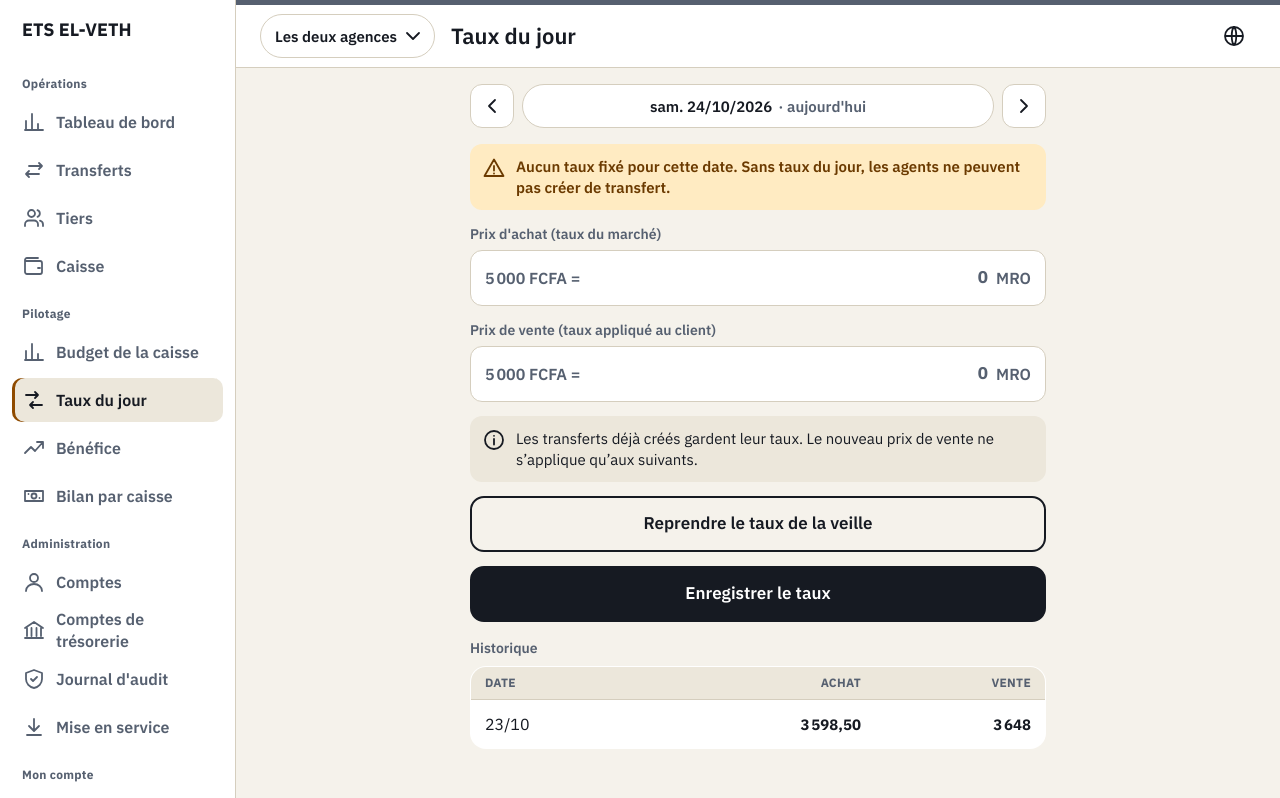
Test: Taux du jour — Superviseur › sans taux pour la date : prévient, et reprend le taux de la veille sans l’enregistrer
Expected: the text "Aucun taux fixé pour cette date. Sans taux du jour" is shown, top-left (516, 157), bottom-right (1020, 197)
Click the button "Reprendre le taux de la veille".
click(758, 524)  # box top-left (470, 496), bottom-right (1046, 552)
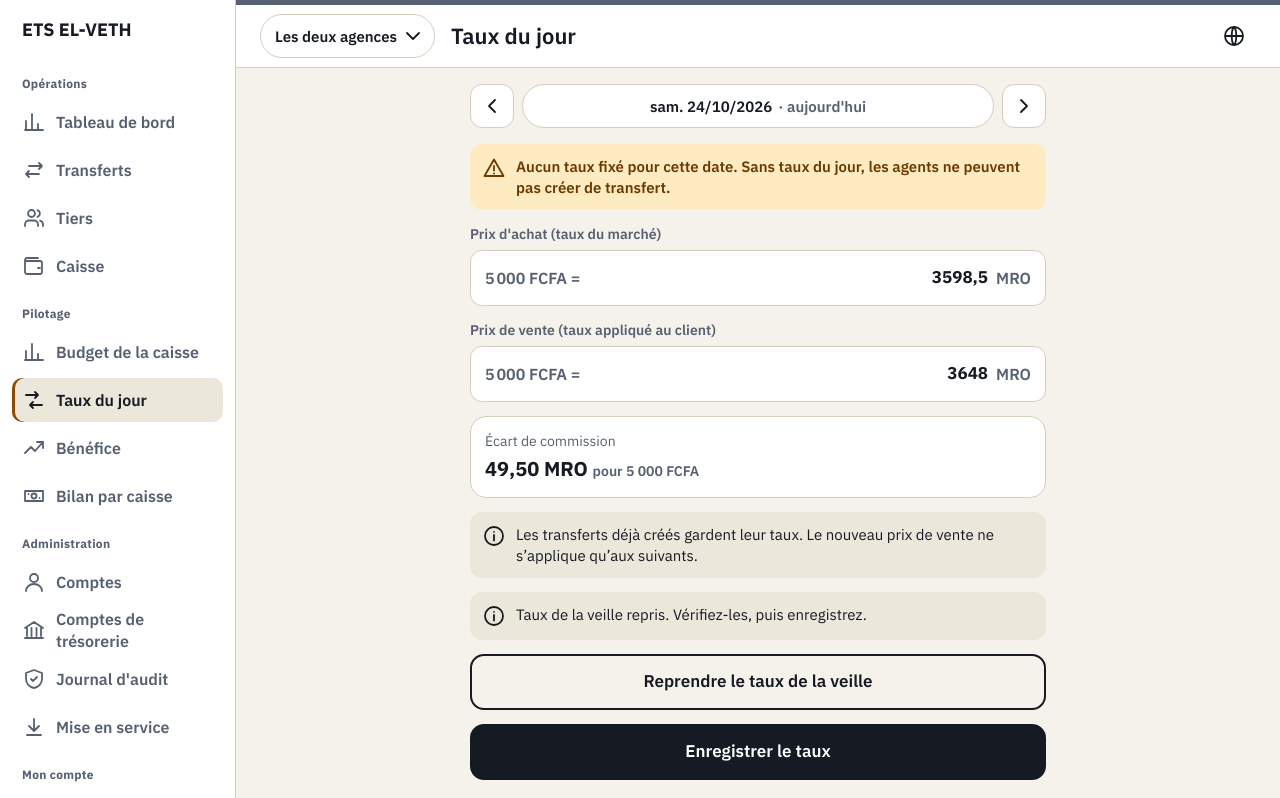
Now the field labelled "Prix d'achat (taux du marché)" holds "3598,5", box top-left (588, 252), bottom-right (988, 304)
Now the field labelled "Prix de vente (taux appliqué au client)" holds "3648", box top-left (588, 348), bottom-right (988, 400)
